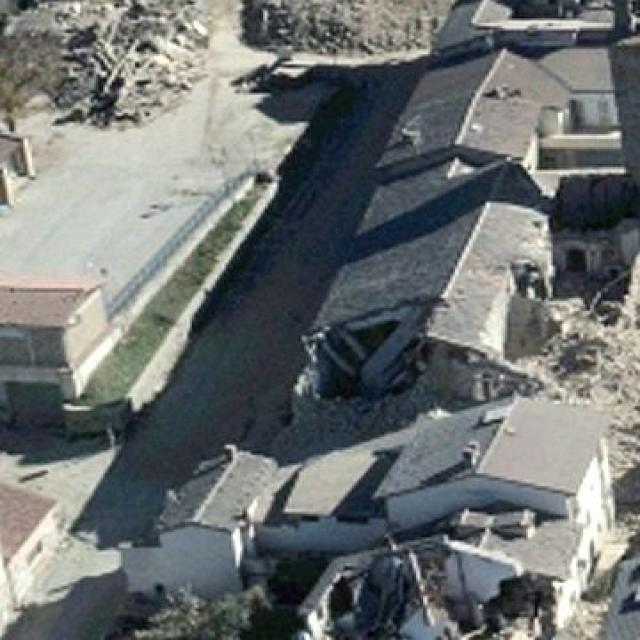collapsed_building: (302, 202, 638, 430), (0, 5, 201, 134)
